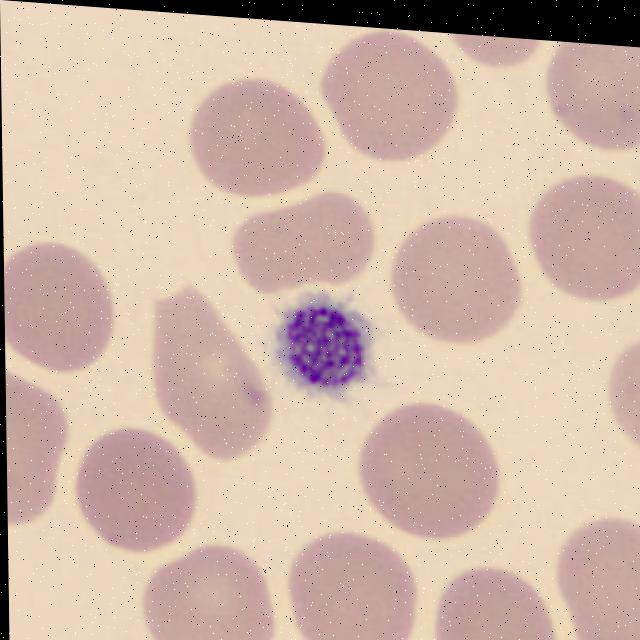platelets: (268, 297, 378, 405)
rbc: (147, 280, 280, 467), (350, 395, 508, 551), (311, 32, 461, 176), (180, 65, 330, 207), (67, 418, 203, 564), (225, 184, 383, 309), (385, 211, 527, 348), (4, 231, 124, 380), (280, 522, 423, 640), (527, 169, 640, 305), (141, 537, 275, 640), (545, 40, 640, 163), (552, 512, 640, 640), (6, 374, 75, 534), (434, 559, 556, 640), (588, 319, 640, 460), (451, 34, 551, 85)
